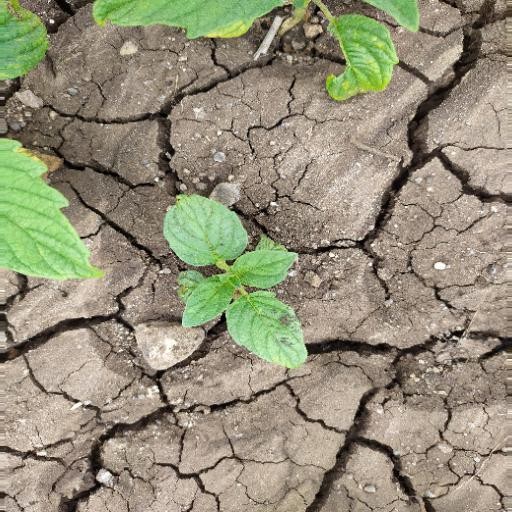crop: (156, 196, 327, 370)
